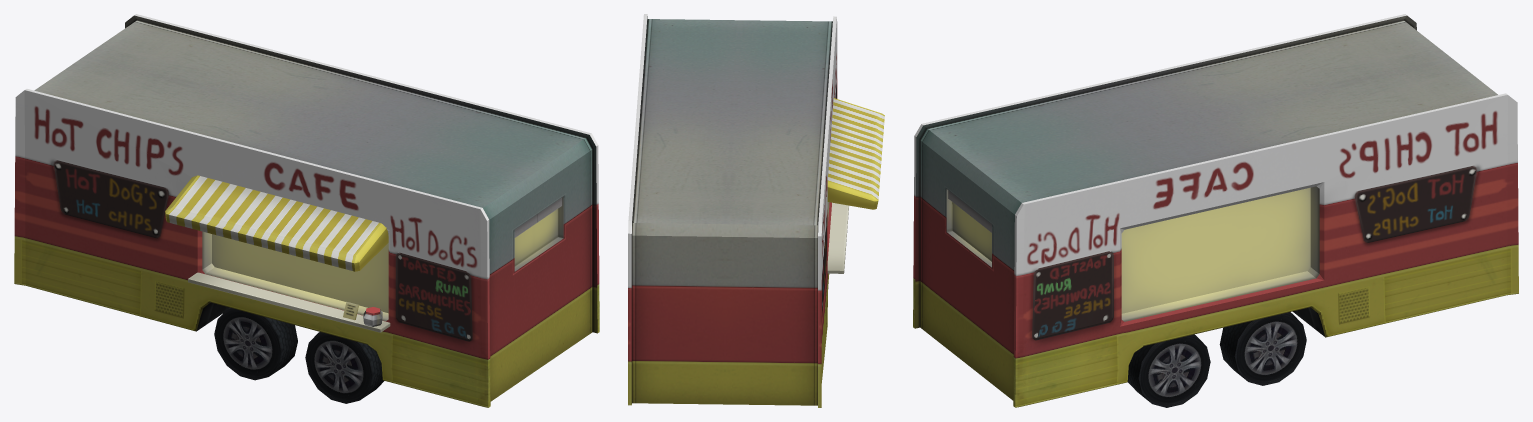
File: FaYuanWai_01_BingJiLingChe_01.FBX
The picture shows the model from 3 angles, left to right: view 1: azimuth 30°, elevation 25°; view 2: azimuth 150°, elevation 25°; view 3: azimuth 270°, elevation 25°; orthographic projection. The views are drawn at different scales.
Parts seen in each view (by area): view 1: polySurface5; view 2: polySurface5; view 3: polySurface5.
Boxes of the visible parts, left/top/right/bottom form: polySurface5: left=14, top=14, right=599, bottom=407; polySurface5: left=628, top=14, right=884, bottom=407; polySurface5: left=913, top=14, right=1518, bottom=407.
Size of the model in its own units: 4044 by 2301 by 5313.
